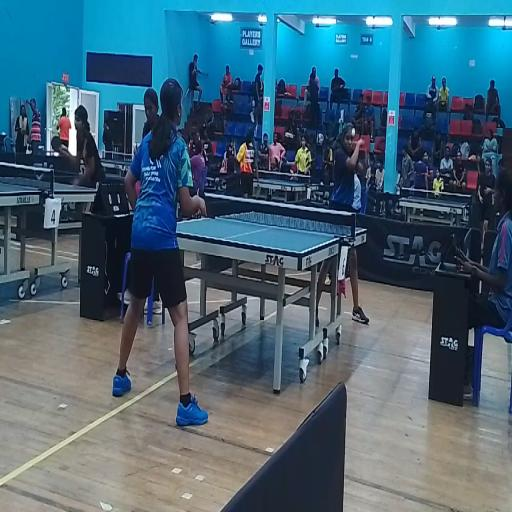ball: (351, 125, 356, 140)
